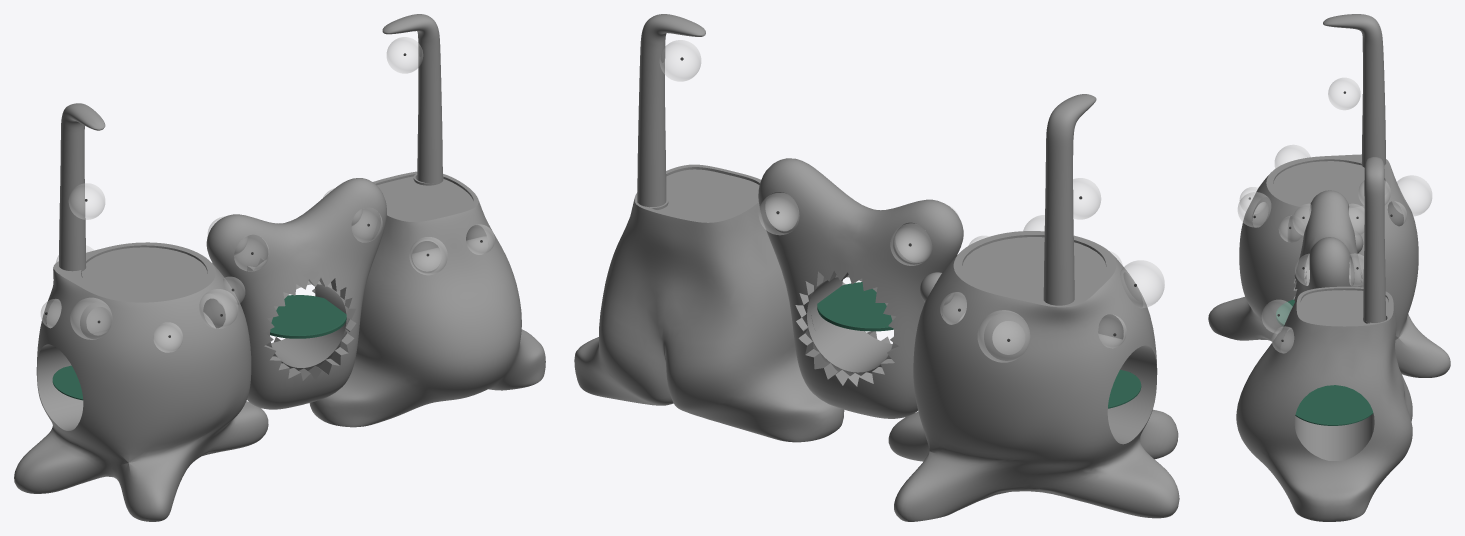
File: mconsole2.glb
3 views of the same model, side by side, from view 1: azimuth 30°, elevation 25°; view 2: azimuth 150°, elevation 25°; view 3: azimuth 270°, elevation 25° (orthographic). The views are drawn at different scales.
Visible parts, largest first — view 1: Object_9, Object_1, Layer 01, Object_20, Object_19, Object_4 (×3), Rounded Cylinder, Object_6, Object_14, Object_16, Object_3, Object_15 (+1 smaller); view 2: Object_9, Object_1, Layer 01, Object_20, Object_19, Object_6, Rounded Cylinder, Object_4 (×2), Object_11, Object_14, Rounded Cylinder #1 #1, Object_13 (+1 smaller); view 3: Object_1, Object_9, Layer 01, Object_20, Object_19, Rounded Cylinder #1, Object_4 (×2), Object_11, Object_16, Object_3, Object_17, Object_14 (+2 smaller).
Boxes of the visible parts, <box> form: Object_9: <box>14,242,268,521</box>; Object_1: <box>309,171,545,427</box>; Layer 01: <box>206,178,386,409</box>; Object_20: <box>59,103,105,271</box>; Object_19: <box>382,14,442,184</box>; Object_4 (×3): <box>69,37,494,254</box>; Rounded Cylinder: <box>270,295,346,338</box>; Object_6: <box>263,281,349,370</box>; Object_14: <box>70,298,112,339</box>; Object_16: <box>199,289,237,328</box>; Object_3: <box>409,237,447,274</box>; Object_15: <box>153,322,182,352</box>; Object_9: <box>888,231,1179,521</box>; Object_1: <box>574,164,844,442</box>; Layer 01: <box>758,158,963,418</box>; Object_20: <box>1043,94,1096,305</box>; Object_19: <box>637,14,705,207</box>; Object_6: <box>802,275,900,375</box>; Rounded Cylinder: <box>817,282,893,331</box>; Object_4 (×2): <box>660,40,1100,219</box>; Object_11: <box>978,310,1029,362</box>; Object_14: <box>1120,260,1164,307</box>; Rounded Cylinder #1 #1: <box>1108,369,1141,408</box>; Object_13: <box>1098,314,1126,348</box>; Object_1: <box>1236,286,1412,521</box>; Object_9: <box>1208,154,1450,377</box>; Layer 01: <box>1293,190,1364,301</box>; Object_20: <box>1323,14,1385,167</box>; Object_19: <box>1363,157,1385,322</box>; Rounded Cylinder #1: <box>1295,385,1373,425</box>; Object_4 (×2): <box>1272,78,1360,353</box>; Object_11: <box>1392,175,1431,216</box>; Object_16: <box>1238,192,1270,227</box>; Object_3: <box>1262,300,1292,333</box>; Object_17: <box>1279,216,1304,242</box>; Object_14: <box>1275,145,1310,168</box>.
Size of the model in its own units: 0.2167 by 0.1403 by 0.0979.
Materials: 18 (15 with a texture image).
